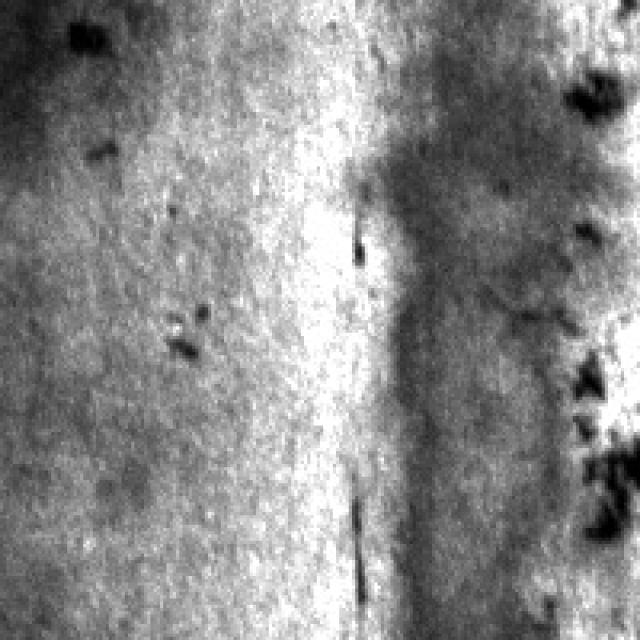inclusion: (566, 339, 640, 547), (570, 51, 636, 125), (61, 10, 125, 67)
patches: (387, 0, 579, 630), (7, 0, 167, 166)
